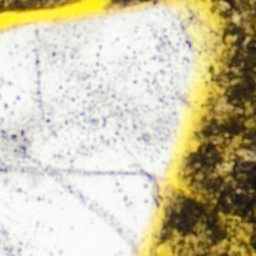cement_matrix: (162, 0, 255, 255), (218, 143, 239, 174), (0, 0, 66, 8), (230, 13, 244, 23), (239, 151, 252, 158), (187, 238, 195, 248), (115, 0, 138, 2)
cracks: (0, 0, 231, 255), (177, 245, 180, 247)
gravel_crushed_stones: (0, 3, 204, 255), (218, 228, 255, 255), (219, 144, 238, 173), (231, 14, 243, 22), (240, 152, 251, 157), (188, 239, 194, 247)
